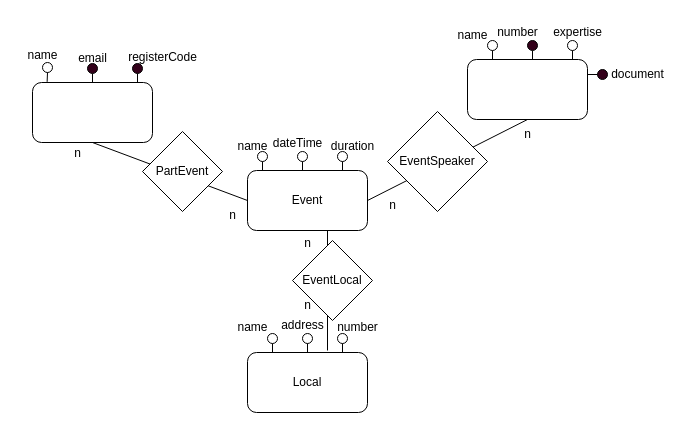
Some shapes in this 694 by 430 pixel diagram are drawn without their labels. Each missing label, with the centre of its shape:
"Participant" goes at (x=92, y=112).
"Speaker" goes at (x=527, y=89).
